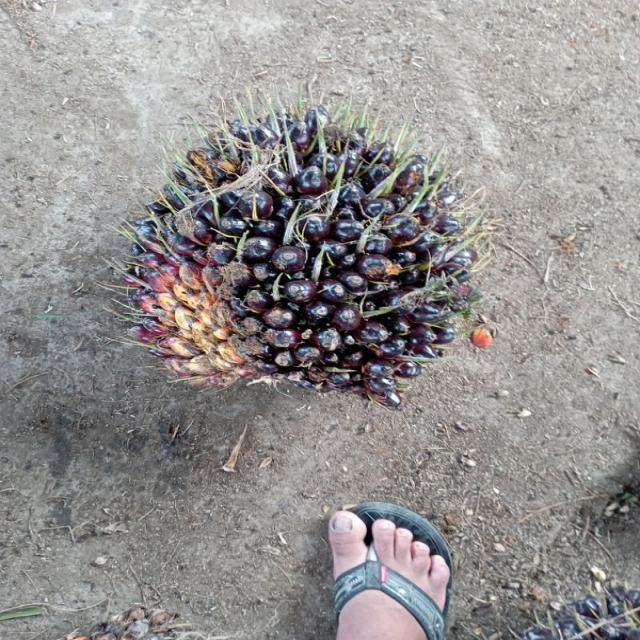fraksi 00: (96, 90, 476, 405)
